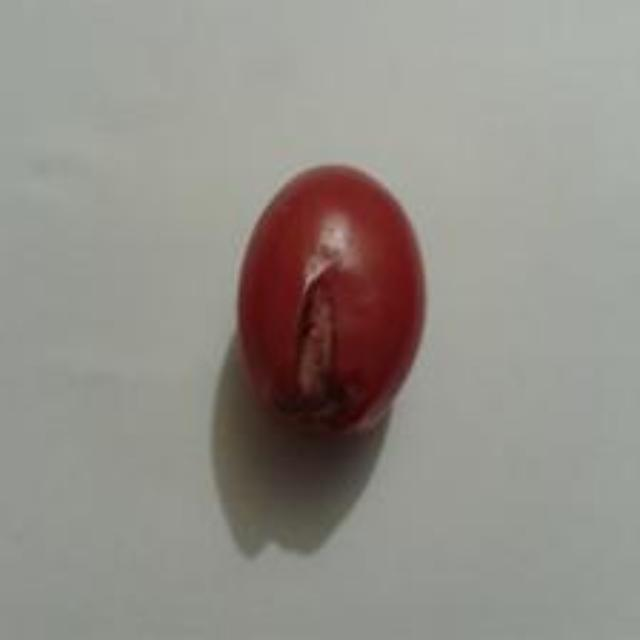defect: (230, 158, 433, 444)
